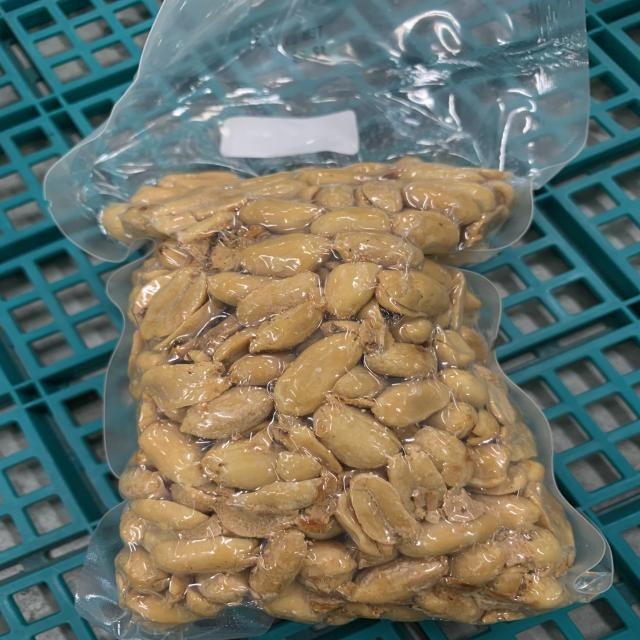object_name: (121, 26, 563, 616)
